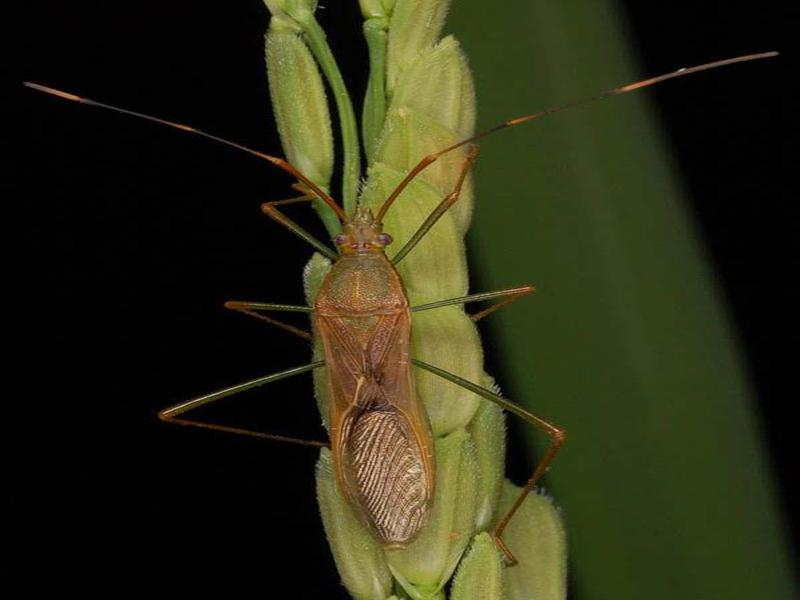Rice_earhead_bug: (264, 204, 470, 544)
